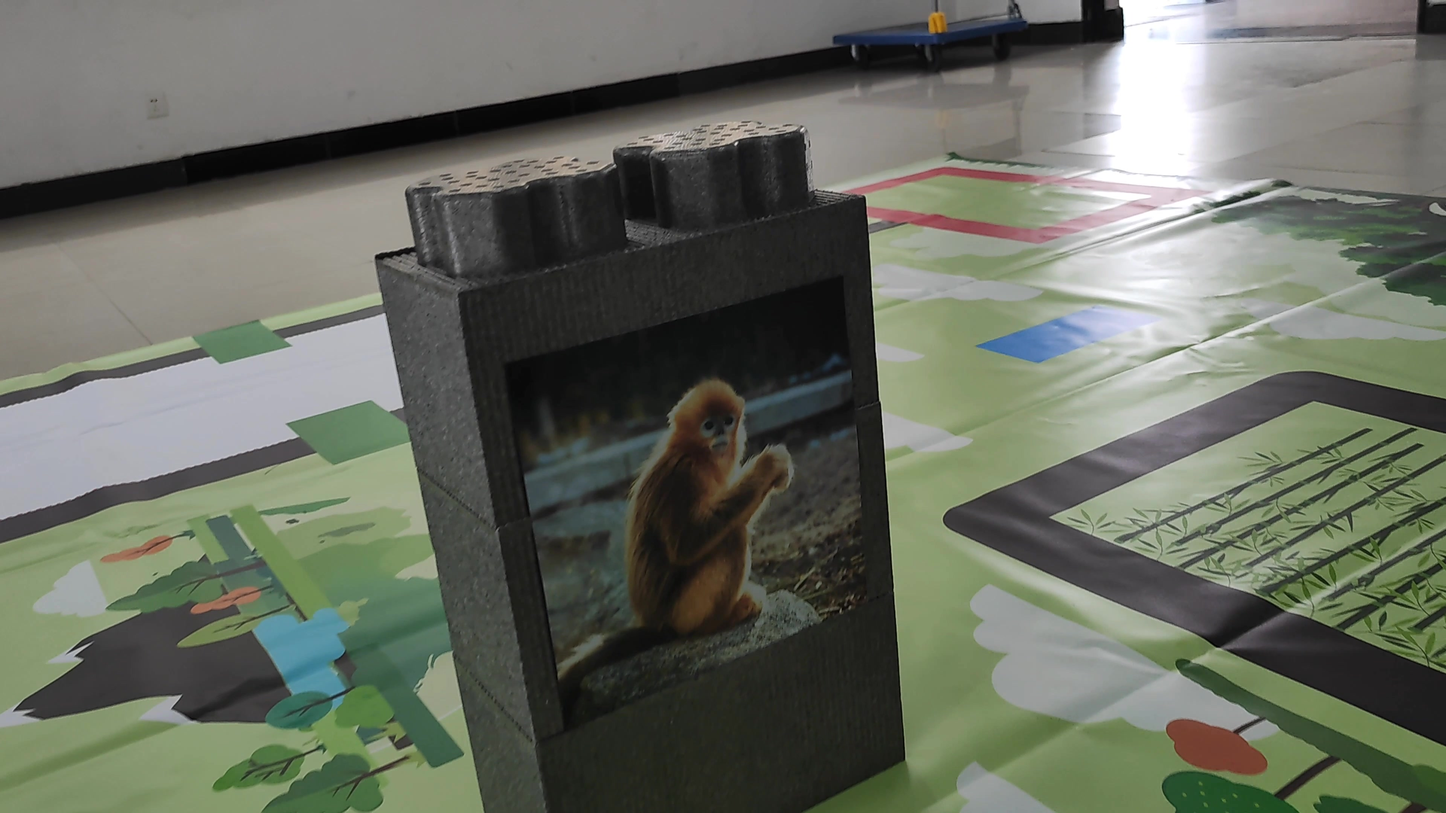monkey: (525, 343, 833, 703)
